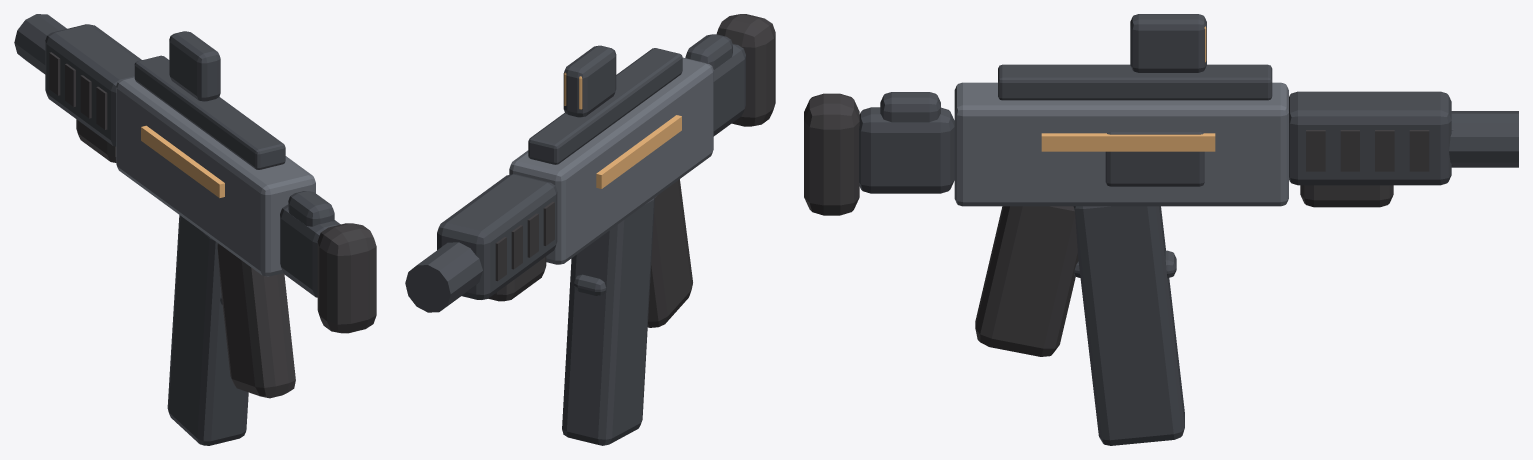
Rendered from WPN_SMG.fbx.
3 views of the same model, side by side, from view 1: azimuth 30°, elevation 25°; view 2: azimuth 150°, elevation 25°; view 3: azimuth 270°, elevation 25° (orthographic). The views are drawn at different scales.
Visible parts, largest first — view 1: WPN_SMG; view 2: WPN_SMG; view 3: WPN_SMG.
Boxes of the visible parts, x1,y1,x2,y2 form: WPN_SMG: [14, 14, 376, 445]; WPN_SMG: [405, 14, 775, 445]; WPN_SMG: [804, 14, 1518, 445].
Bounding box in the file's own units: 0.06 × 0.3329 × 0.513.
